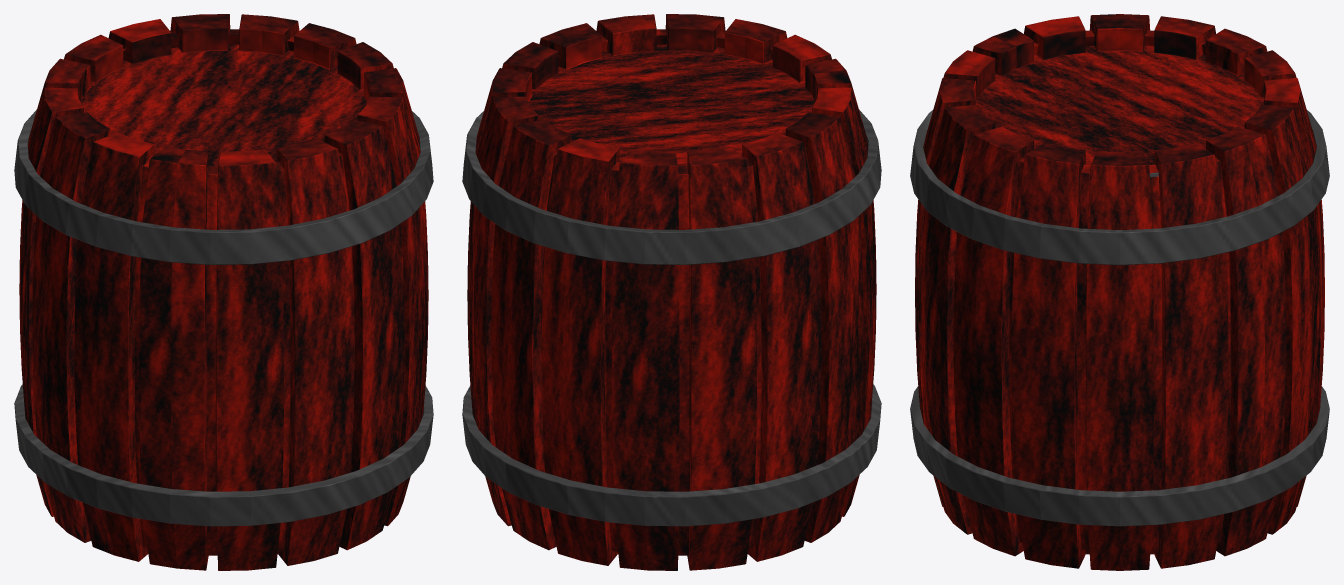
Rendered from Barrel.fbx.
The picture shows the model from 3 angles, left to right: view 1: azimuth 30°, elevation 25°; view 2: azimuth 150°, elevation 25°; view 3: azimuth 270°, elevation 25°; orthographic projection.
Parts seen in each view (by area): view 1: Cylinder; view 2: Cylinder; view 3: Cylinder.
Boxes of the visible parts, box(x1,y1,x2,y2) form: Cylinder: box(14, 14, 433, 570); Cylinder: box(462, 14, 881, 570); Cylinder: box(910, 14, 1329, 570).
Bounding box in the file's own units: 233 × 248 × 233.
